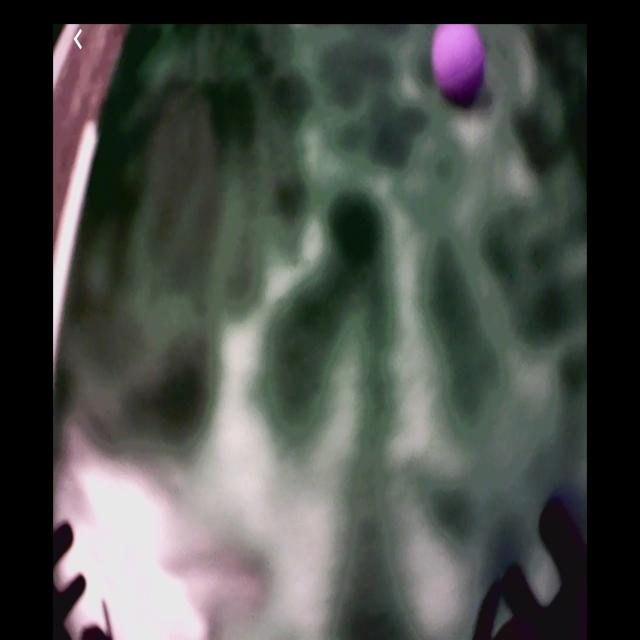ball: (432, 26, 485, 105)
